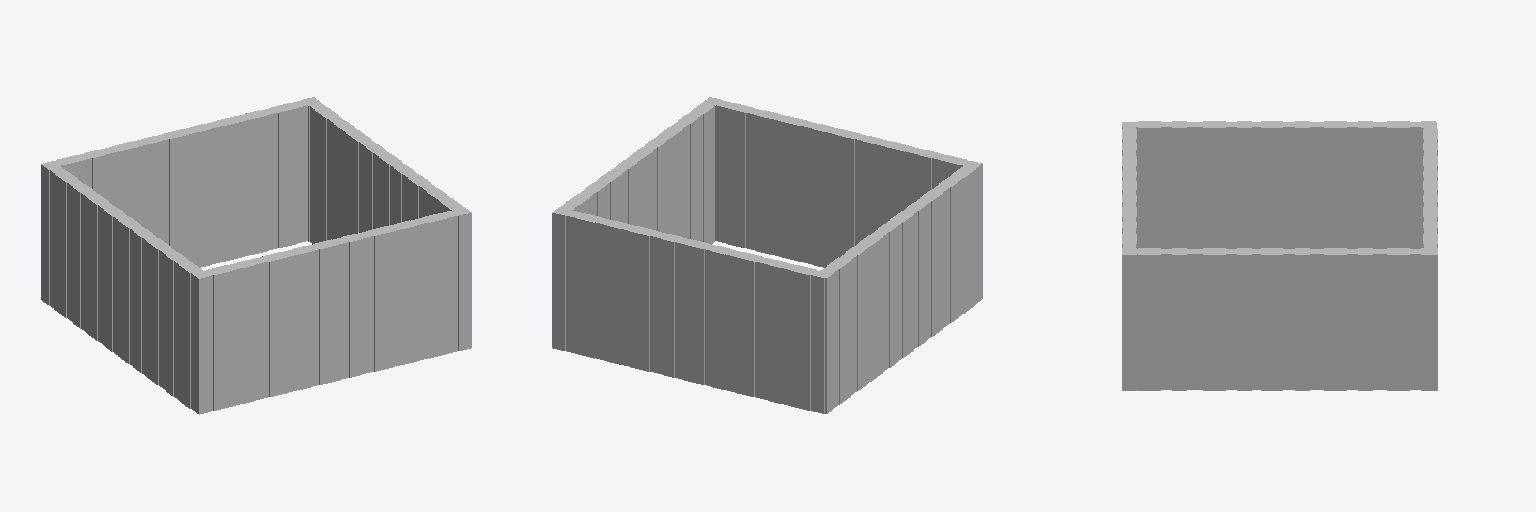
The model's file is mapWall.obj.
3 renders of one model, left to right at view 1: azimuth 30°, elevation 25°; view 2: azimuth 150°, elevation 25°; view 3: azimuth 270°, elevation 25°, orthographic.
Visible parts, largest first — view 1: Cube.001; view 2: Cube.001; view 3: Cube.001.
Boxes of the visible parts, x1=… form: Cube.001: x1=41, y1=97, x2=471, y2=414; Cube.001: x1=552, y1=97, x2=982, y2=413; Cube.001: x1=1122, y1=121, x2=1437, y2=390.
Size of the model in its own units: 21.07 by 10 by 21.07.